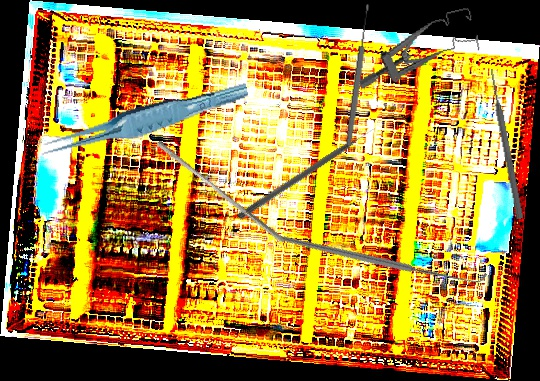Hook Surgical: (274, 151, 488, 362)
Pusher: (152, 140, 290, 244), (236, 125, 378, 222), (486, 68, 526, 220)
Speculum: (348, 6, 484, 91)
Surgical Spoon: (344, 3, 373, 147)
Tissue Forceps: (34, 81, 253, 158)
